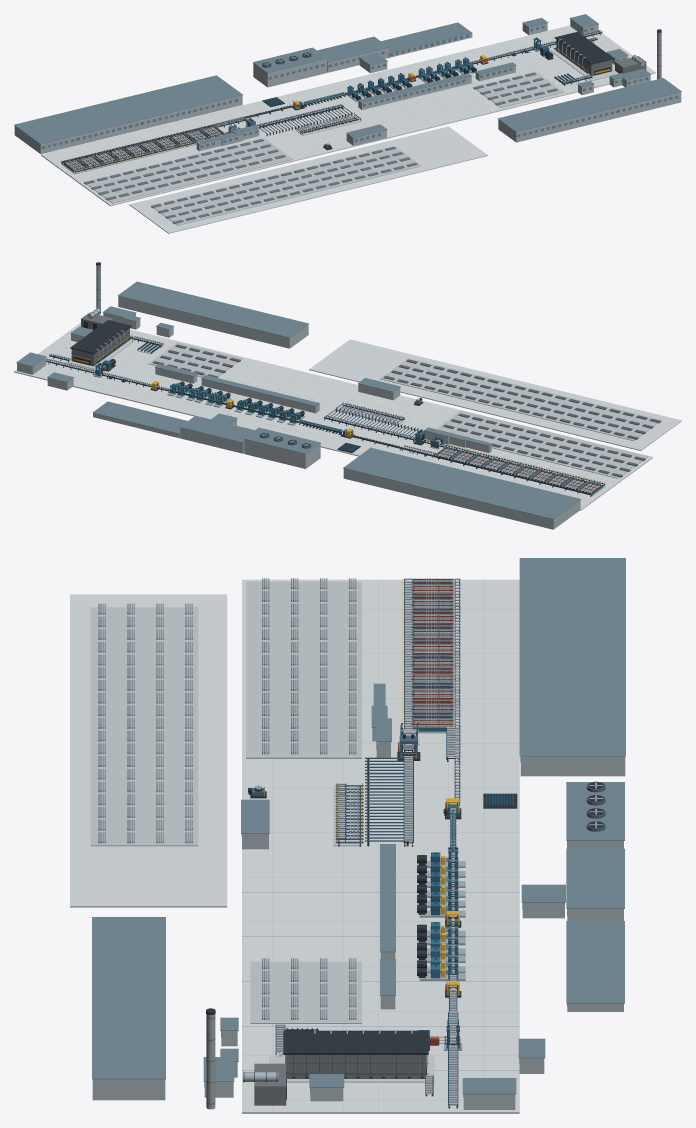
The model's file is Прокатный стан 300.glb.
3 views of the same model, one above another, from view 1: azimuth 30°, elevation 25°; view 2: azimuth 150°, elevation 25°; view 3: azimuth 270°, elevation 25° (orthographic). The views are drawn at different scales.
Parts seen in each view (by area): view 1: Пол производственного пролёта, 46 · Участок подготовки производства, 3* — штабели · Складирование готового проката, Окружение, 2* · Складирование готового проката, ТП-20 · Трансформаторная подстанция ТП-20, 11 · Холодильник · 10 секций, 60 м, 30.3 · Градирня, 1 · Нагревательная печь с шагающим подом, 1* · Зона подготовки заготовки, 30.1 · Бассейн с горячей водой, 30.2 · Насосная оборотного водоснабжения (+13 smaller); view 2: Пол производственного пролёта, 46 · Участок подготовки производства, 3* — штабели · Складирование готового проката, Окружение, ТП-20 · Трансформаторная подстанция ТП-20, 2* · Складирование готового проката, 30.3 · Градирня, 11 · Холодильник · 10 секций, 60 м, 1 · Нагревательная печь с шагающим подом, 1* · Зона подготовки заготовки, 30.1 · Бассейн с горячей водой, 30.2 · Насосная оборотного водоснабжения (+9 smaller); view 3: Пол производственного пролёта, 3* — штабели · Складирование готового проката, Окружение, 46 · Участок подготовки производства, 2* · Складирование готового проката, ТП-20 · Трансформаторная подстанция ТП-20, 1 · Нагревательная печь с шагающим подом, 1* · Зона подготовки заготовки, 11 · Холодильник · 10 секций, 60 м, 30.1 · Бассейн с горячей водой, 30.2 · Насосная оборотного водоснабжения, 30.3 · Градирня (+15 smaller).
Part boxes in pixels (box(x1,y1,x2,y2)): Пол производственного пролёта: box(41, 25, 655, 206); 46 · Участок подготовки производства: box(14, 75, 242, 153); 3* — штабели · Складирование готового проката: box(151, 146, 421, 225); Окружение: box(129, 126, 487, 233); 2* · Складирование готового проката: box(84, 138, 293, 203); ТП-20 · Трансформаторная подстанция ТП-20: box(498, 78, 681, 142); 11 · Холодильник · 10 секций, 60 м: box(62, 125, 224, 174); 30.3 · Градирня: box(253, 47, 327, 87); 1 · Нагревательная печь с шагающим подом: box(550, 31, 618, 81); 1* · Зона подготовки заготовки: box(473, 71, 563, 107); 30.1 · Бассейн с горячей водой: box(381, 22, 472, 57); 30.2 · Насосная оборотного водоснабжения: box(317, 36, 388, 72); Пол производственного пролёта: box(14, 322, 652, 510); 46 · Участок подготовки производства: box(343, 447, 580, 529); 3* — штабели · Складирование готового проката: box(380, 358, 661, 440); Окружение: box(309, 339, 681, 450); ТП-20 · Трансформаторная подстанция ТП-20: box(117, 281, 308, 348); 2* · Складирование готового проката: box(436, 410, 648, 478); 30.3 · Градирня: box(243, 427, 320, 468); 11 · Холодильник · 10 секций, 60 м: box(434, 444, 605, 495); 1 · Нагревательная печь с шагающим подом: box(67, 320, 138, 369); 1* · Зона подготовки заготовки: box(148, 342, 242, 377); 30.1 · Бассейн с горячей водой: box(92, 401, 187, 438); 30.2 · Насосная оборотного водоснабжения: box(179, 416, 254, 453); Пол производственного пролёта: box(242, 579, 519, 1113); 3* — штабели · Складирование готового проката: box(90, 603, 198, 846); Окружение: box(70, 594, 227, 907); 46 · Участок подготовки производства: box(519, 558, 625, 776); 2* · Складирование готового проката: box(246, 578, 361, 758); ТП-20 · Трансформаторная подстанция ТП-20: box(92, 917, 165, 1100); 1 · Нагревательная печь с шагающим подом: box(269, 1030, 434, 1082); 1* · Зона подготовки заготовки: box(250, 958, 361, 1023); 11 · Холодильник · 10 секций, 60 м: box(402, 578, 453, 733); 30.1 · Бассейн с горячей водой: box(566, 921, 624, 1011); 30.2 · Насосная оборотного водоснабжения: box(566, 848, 624, 920); 30.3 · Градирня: box(566, 781, 624, 848).
Size of the model in its own units: 215 by 18.65 by 94.69.
